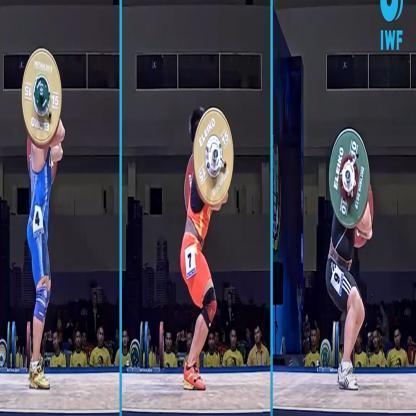barbell: (21, 47, 63, 149), (329, 130, 370, 231), (192, 107, 233, 204)
